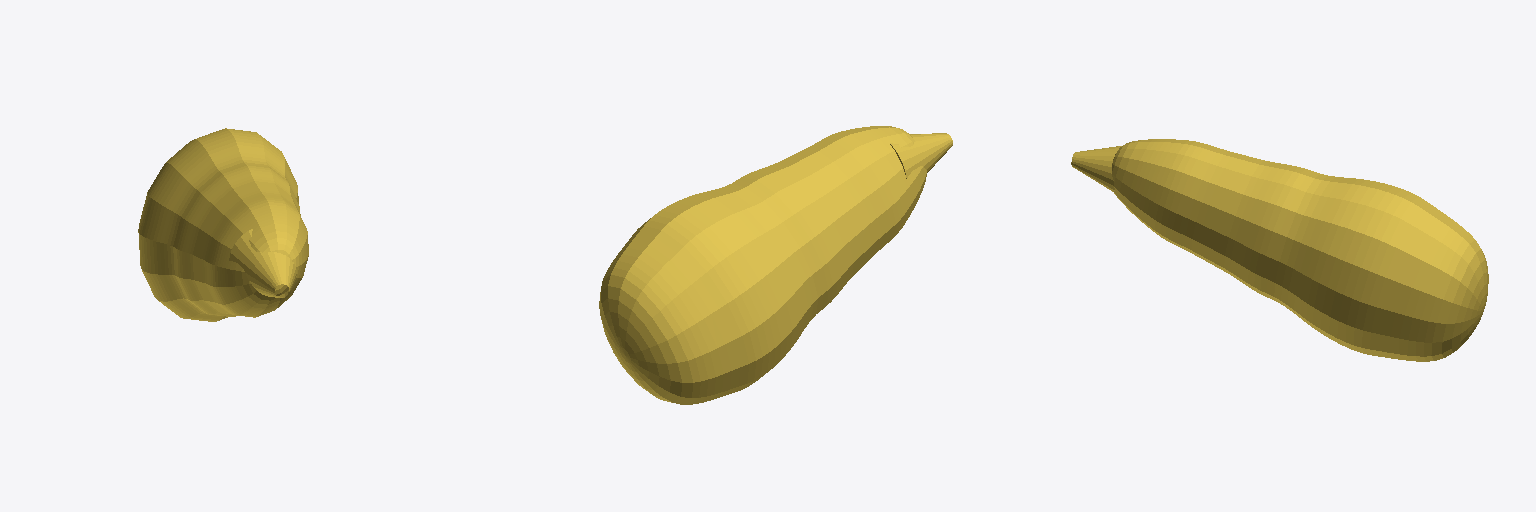
The model's file is gallbladderGREENNEWEST.obj.
3 renders of one model, left to right at view 1: azimuth 30°, elevation 25°; view 2: azimuth 150°, elevation 25°; view 3: azimuth 270°, elevation 25°, orthographic.
Visible parts, largest first — view 1: GallBladder; view 2: GallBladder; view 3: GallBladder.
Boxes of the visible parts, <box> form: GallBladder: <box>138,128,308,321</box>; GallBladder: <box>599,126,952,404</box>; GallBladder: <box>1071,139,1488,361</box>.
Size of the model in its own units: 2.38 by 2.49 by 4.96.